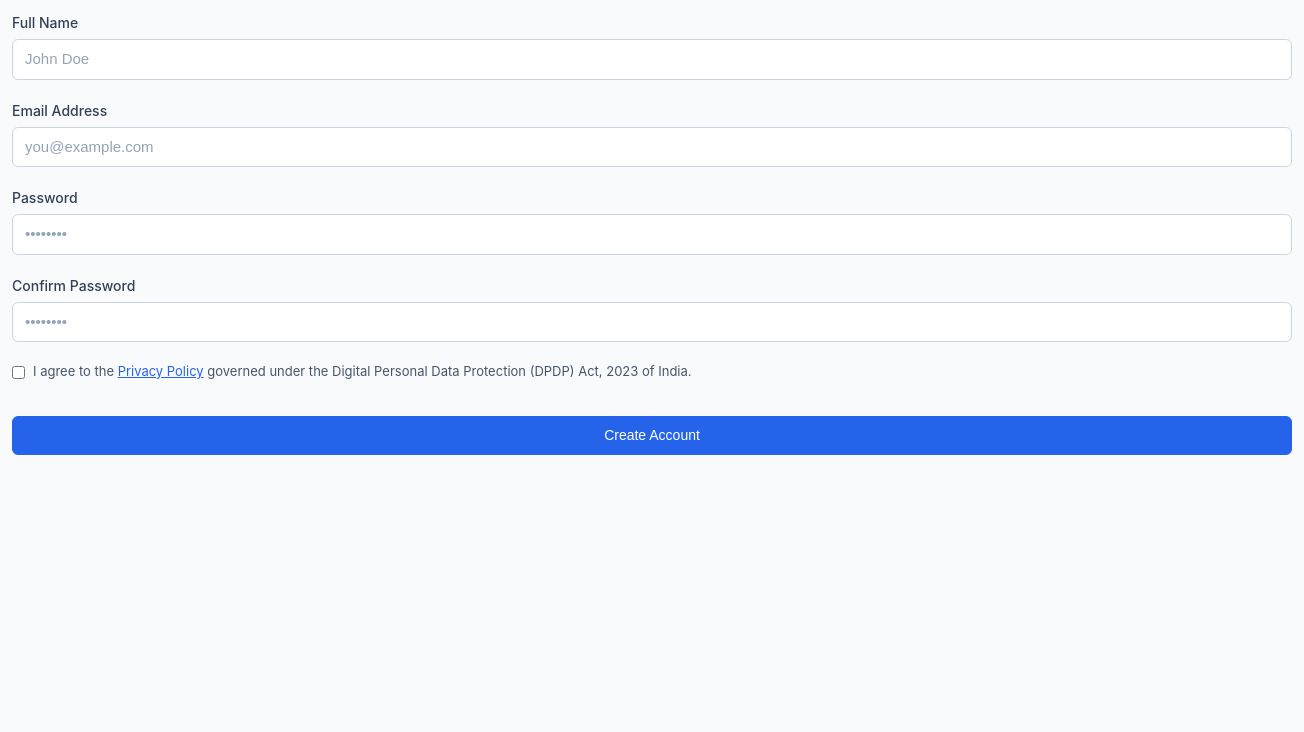
Test case: RegisterForm › validates required fields
Click the button "Create Account": [652, 436] box [12,416,1292,455]
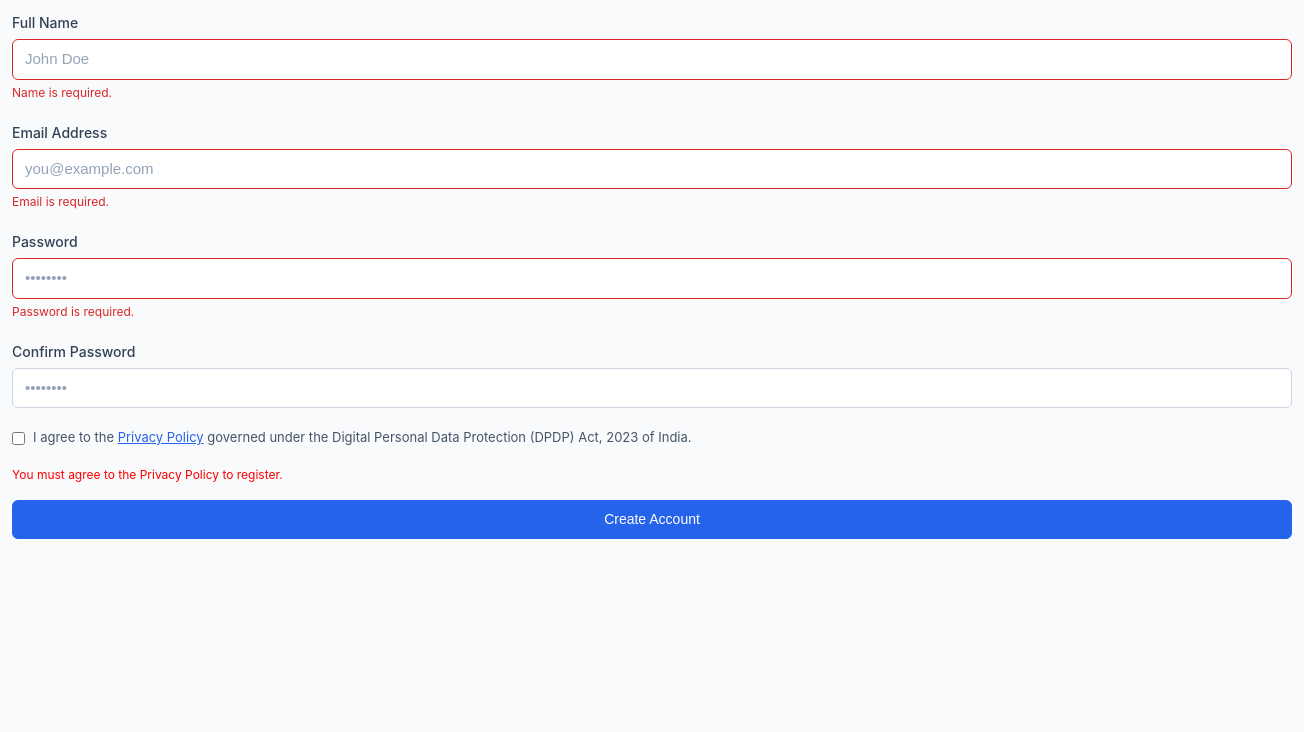
Expected: the text "Name is required." is shown, [12,84,112,100]
